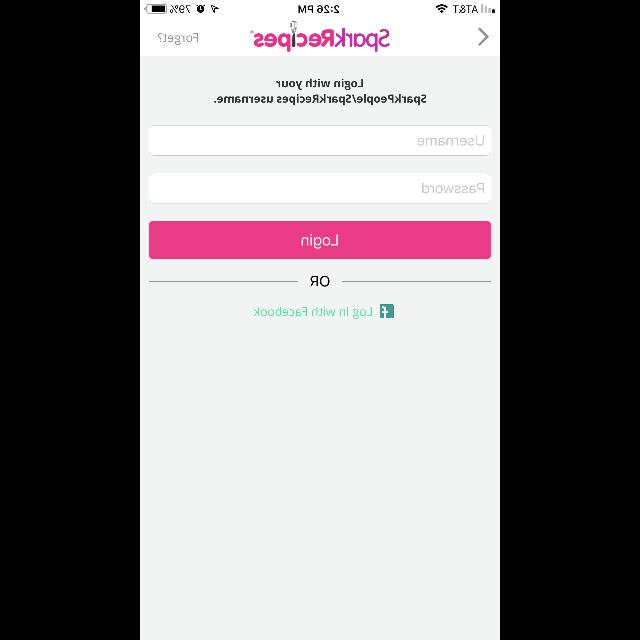icon: (380, 304, 394, 318), (478, 28, 488, 46)
image: (250, 22, 390, 52)
input: (149, 174, 491, 204), (149, 126, 491, 156)
text: (214, 78, 426, 105), (253, 307, 371, 319), (422, 182, 483, 194), (417, 136, 483, 146), (158, 33, 198, 45), (310, 276, 330, 286)
textbutton: (149, 221, 491, 259)
uppertaskbar: (140, 0, 500, 14)
